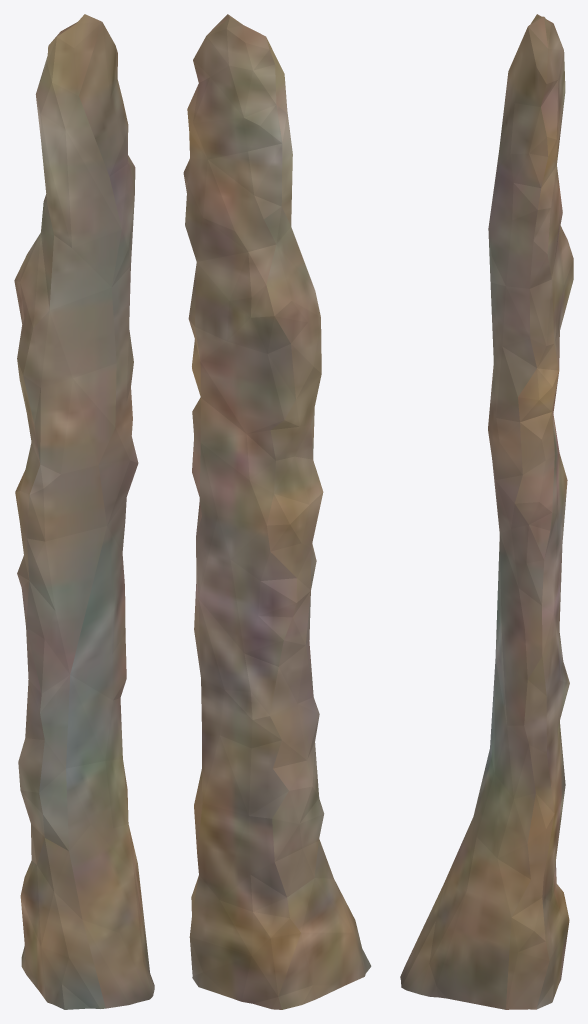
File: Tile_+003_+007_L22_00031000.glb
The picture shows the model from 3 angles, left to right: view 1: azimuth 30°, elevation 25°; view 2: azimuth 150°, elevation 25°; view 3: azimuth 270°, elevation 25°; orthographic projection. The views are drawn at different scales.
Visible parts, largest first — view 1: rtc; view 2: rtc; view 3: rtc.
Boxes of the visible parts, x1,y1,x2,y2 form: rtc: (14,14,154,1009); rtc: (183,14,371,1009); rtc: (400,14,573,1009).
Bounding box in the file's own units: 1.36 × 9.28 × 1.5.
1 material, 1 textured.
